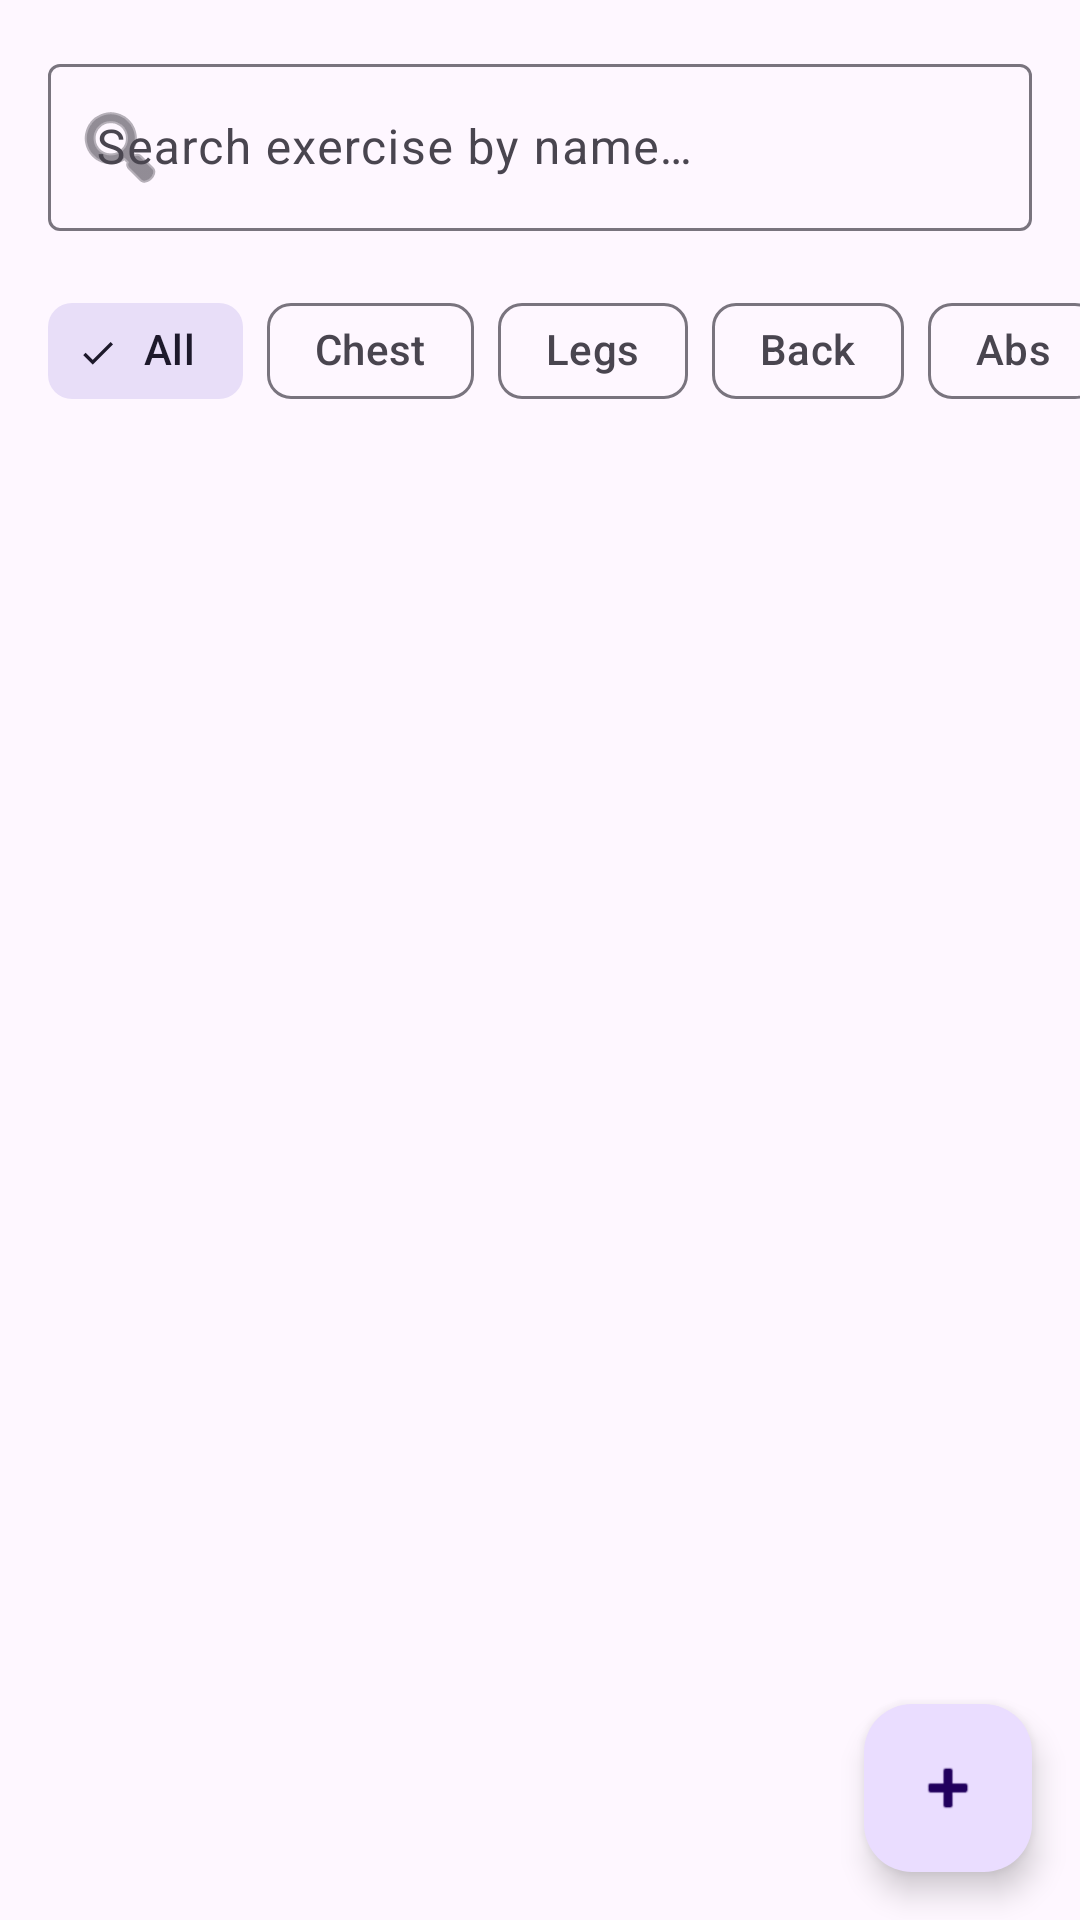

Where icons sit on this 1080 × 1920 app screen, as rect(x1, y1, x2, y2):
Add New Exercise: rect(864, 1704, 1032, 1872)
